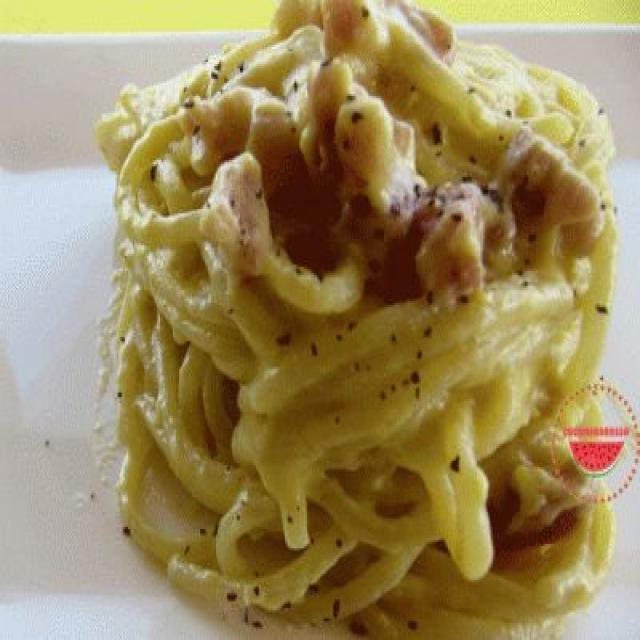Pasta with carbonara sauce: (96, 2, 586, 606)
